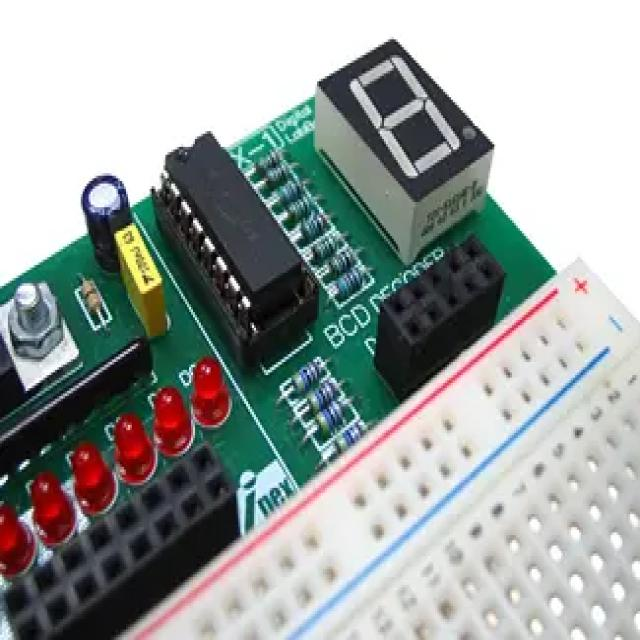Electrolytic capacitor: (77, 176, 136, 275)
IC: (156, 126, 318, 354)
led: (70, 434, 123, 518), (107, 409, 162, 487), (26, 468, 80, 546), (149, 389, 203, 460), (0, 499, 42, 573), (191, 354, 228, 434)
pinsocket: (2, 451, 238, 640), (376, 240, 501, 384)
resistor: (333, 418, 368, 460), (290, 351, 318, 393), (298, 202, 326, 242), (323, 242, 357, 272), (253, 138, 281, 172), (335, 263, 362, 298), (312, 400, 348, 426), (272, 176, 304, 203), (264, 159, 292, 186), (307, 384, 336, 410), (288, 194, 314, 219), (315, 228, 335, 260)
